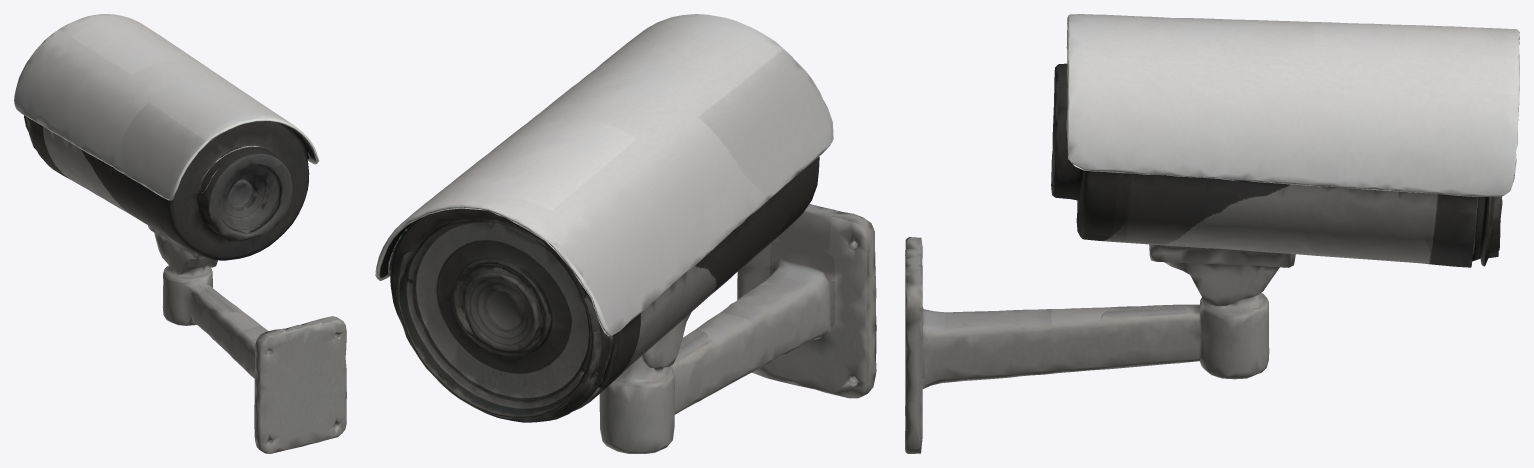
File: CctvCamera.glb
3 views of the same model, side by side, from view 1: azimuth 30°, elevation 25°; view 2: azimuth 150°, elevation 25°; view 3: azimuth 270°, elevation 25° (orthographic). The views are drawn at different scales.
Parts seen in each view (by area): view 1: texture_mapping; view 2: texture_mapping; view 3: texture_mapping.
Boxes of the visible parts, x1,y1,x2,y2 form: texture_mapping: [14, 14, 346, 453]; texture_mapping: [375, 14, 876, 453]; texture_mapping: [905, 14, 1519, 453].
Bounding box in the file's own units: 0.4163 × 0.7264 × 0.9999.
Materials: 1 (1 with a texture image).
